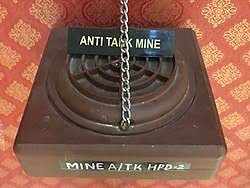car: (6, 12, 245, 184)
